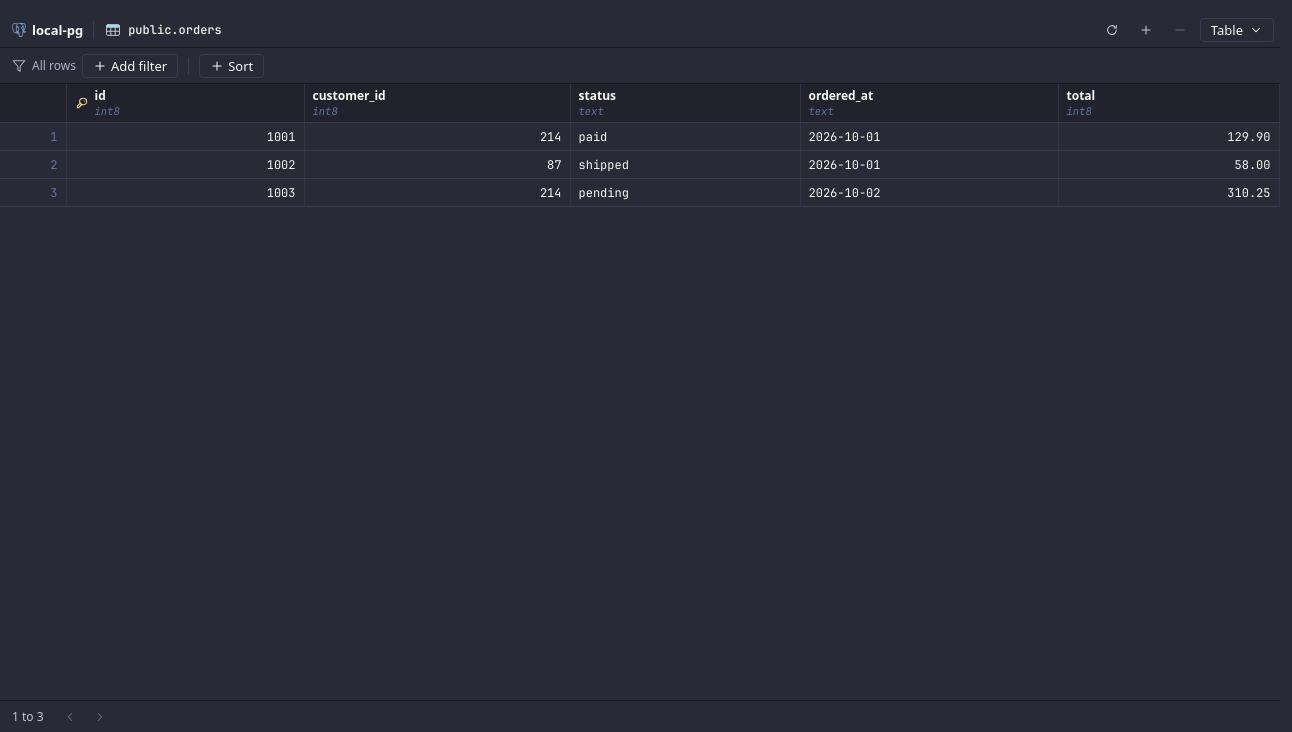
Test: Shift+F10 on a single cell still opens the cell menu
Check: the text "pending" is shown, box [578,184,629,200]
Press the mouse on the cell "paid" at (685, 136), box [570,122,800,150]
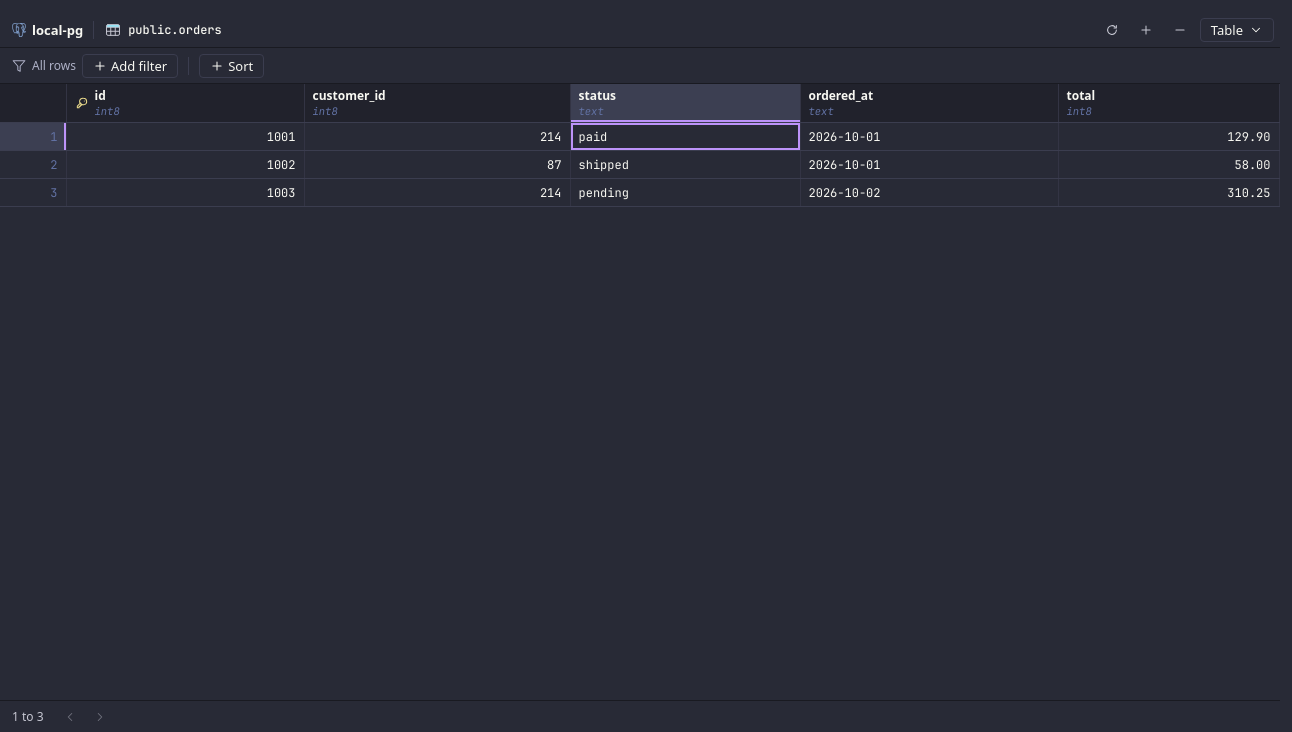
Press F10 in the element with class "grid-scroll", box [0,84,1279,206]
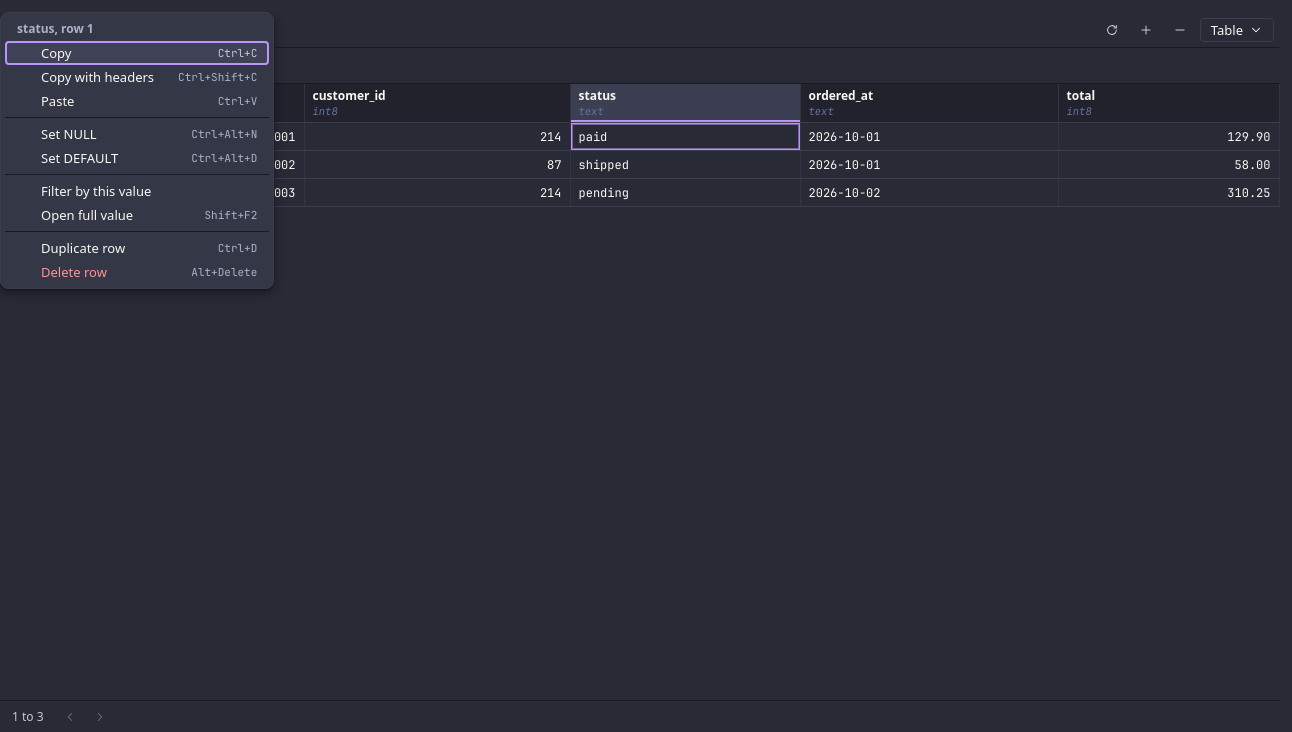
Check: the text "Copy with headers" is shown, box [41,68,154,86]
